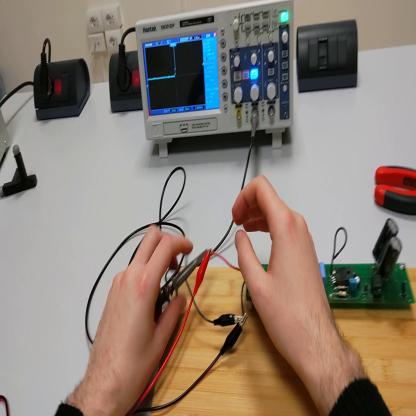hand: (233, 172, 336, 378), (87, 226, 196, 403)
high voltage board: (213, 217, 416, 316)
oscilloscope: (136, 2, 302, 165)
oscilloscope probe tip: (156, 247, 214, 307)
pliers: (373, 165, 416, 215)
power supply: (1, 104, 11, 169)
socket: (36, 61, 94, 123), (107, 48, 145, 118)
working area: (145, 265, 416, 415)
